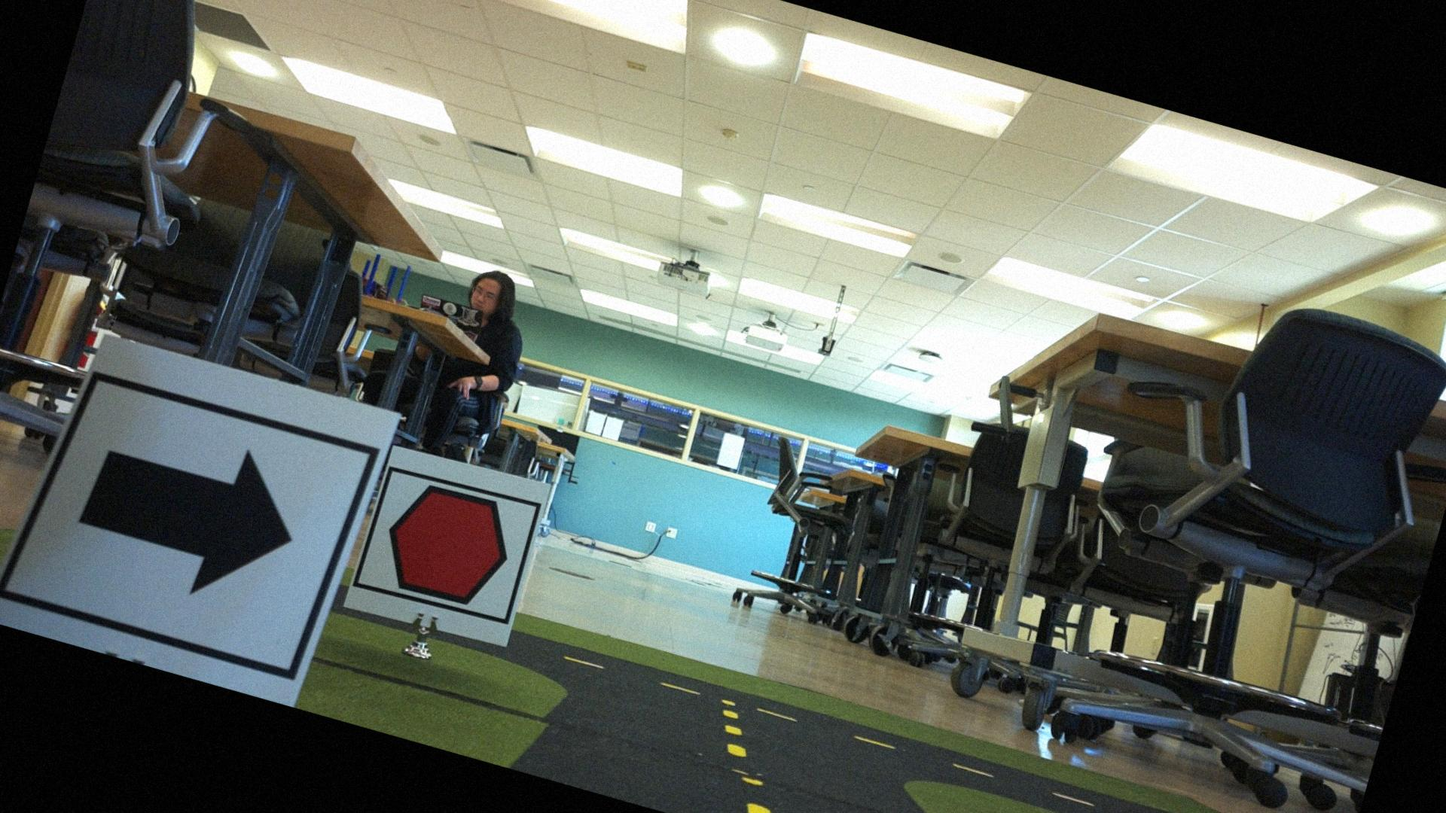stop: (358, 466, 537, 623)
turnright: (23, 371, 366, 687)
yellowline: (694, 707, 798, 812)
